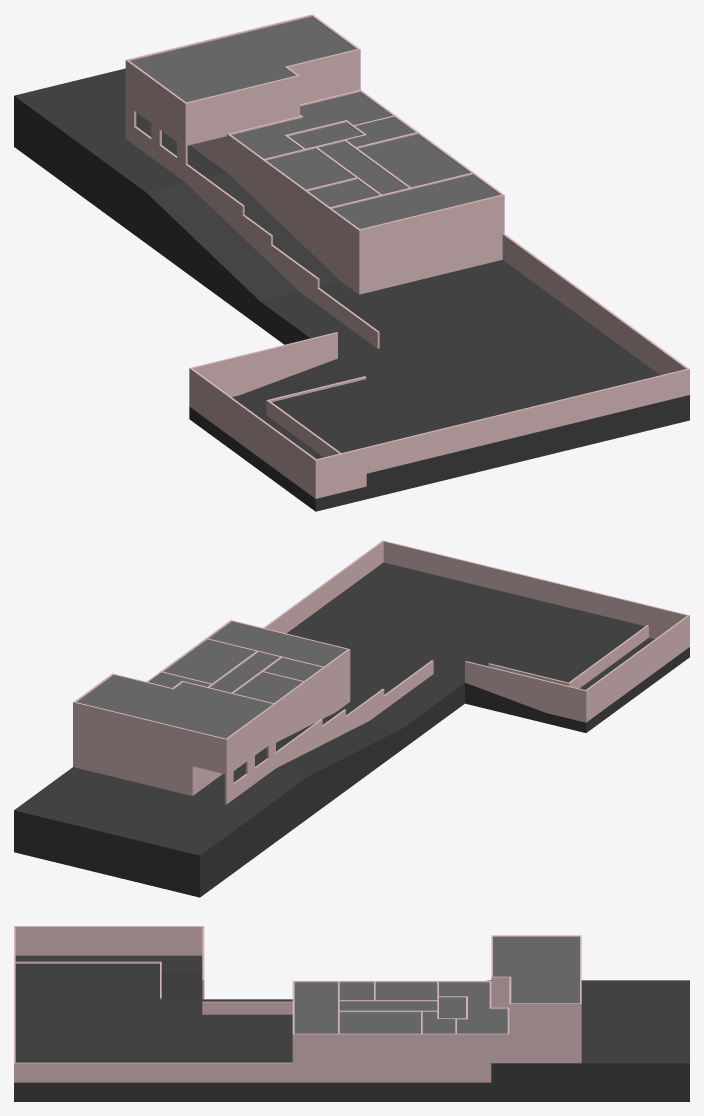
File: mam_v1_4.glb
3 views of the same model, one above another, from view 1: azimuth 30°, elevation 25°; view 2: azimuth 150°, elevation 25°; view 3: azimuth 270°, elevation 25° (orthographic). The views are drawn at different scales.
Parts seen in each view (by area): view 1: exterior_ground, exterior_wall, masjid_roof_back, masjid_roof_front, masjid_first_floor, masjid_ground_floor; view 2: exterior_ground, exterior_wall, masjid_roof_front, masjid_roof_back, masjid_first_floor, masjid_ground_floor; view 3: exterior_ground, exterior_wall, masjid_roof_back, masjid_roof_front, masjid_first_floor, masjid_ground_floor.
Boxes of the visible parts, bbox=[...] form: exterior_ground: bbox=[14, 68, 689, 511]; exterior_wall: bbox=[125, 103, 689, 498]; masjid_roof_back: bbox=[227, 89, 504, 232]; masjid_roof_front: bbox=[125, 14, 360, 146]; masjid_first_floor: bbox=[190, 136, 504, 268]; masjid_ground_floor: bbox=[228, 173, 502, 294]; exterior_ground: bbox=[14, 562, 689, 897]; exterior_wall: bbox=[225, 540, 689, 804]; masjid_roof_front: bbox=[73, 673, 275, 774]; masjid_roof_back: bbox=[147, 620, 350, 704]; masjid_first_floor: bbox=[73, 651, 350, 795]; masjid_ground_floor: bbox=[266, 681, 350, 747]; exterior_ground: bbox=[14, 955, 689, 1101]; exterior_wall: bbox=[14, 926, 292, 1082]; masjid_roof_back: bbox=[292, 981, 509, 1035]; masjid_roof_front: bbox=[491, 935, 581, 1035]; masjid_first_floor: bbox=[292, 1036, 581, 1063]; masjid_ground_floor: bbox=[292, 1063, 491, 1082].
Size of the model in its own units: 36 by 11.95 by 74.87.
